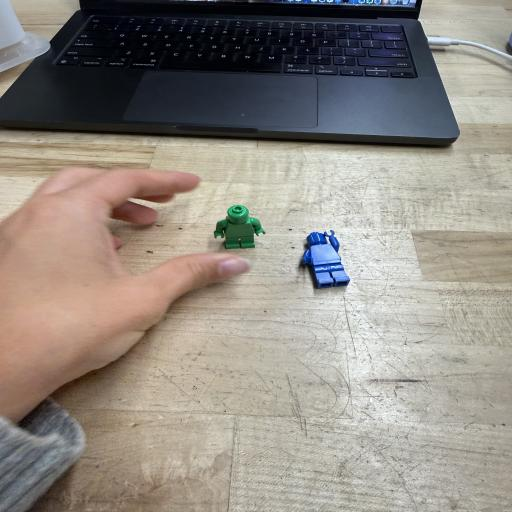blue-minifig: (302, 230, 350, 288)
green-minifig: (214, 205, 265, 248)
